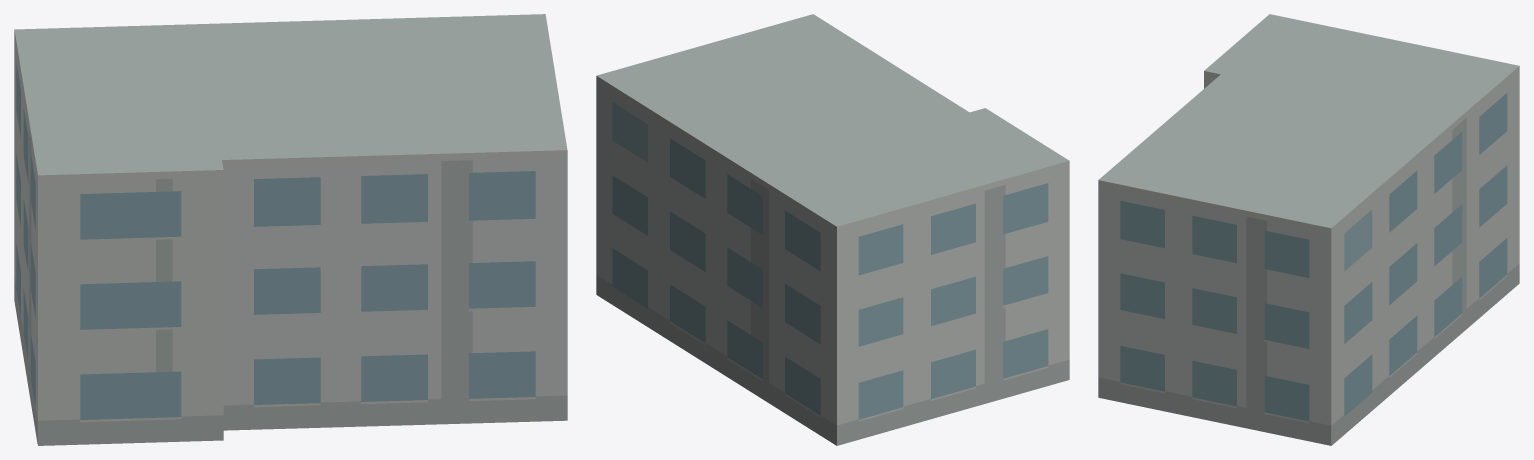
The model's file is residential-907451e8-65b8-4823-8257-79abdec284c6.glb.
The picture shows the model from 3 angles, left to right: view 1: azimuth 30°, elevation 25°; view 2: azimuth 150°, elevation 25°; view 3: azimuth 270°, elevation 25°; orthographic projection. The views are drawn at different scales.
Parts seen in each view (by area): view 1: residential-907451e8-65b8-4823-8257-79abdec284c6.tmp; view 2: residential-907451e8-65b8-4823-8257-79abdec284c6.tmp; view 3: residential-907451e8-65b8-4823-8257-79abdec284c6.tmp.
Boxes of the visible parts, bbox=[...] form: residential-907451e8-65b8-4823-8257-79abdec284c6.tmp: bbox=[14, 14, 567, 445]; residential-907451e8-65b8-4823-8257-79abdec284c6.tmp: bbox=[596, 14, 1069, 445]; residential-907451e8-65b8-4823-8257-79abdec284c6.tmp: bbox=[1098, 14, 1519, 445].
Size of the model in its own units: 19.02 by 9 by 15.81.
